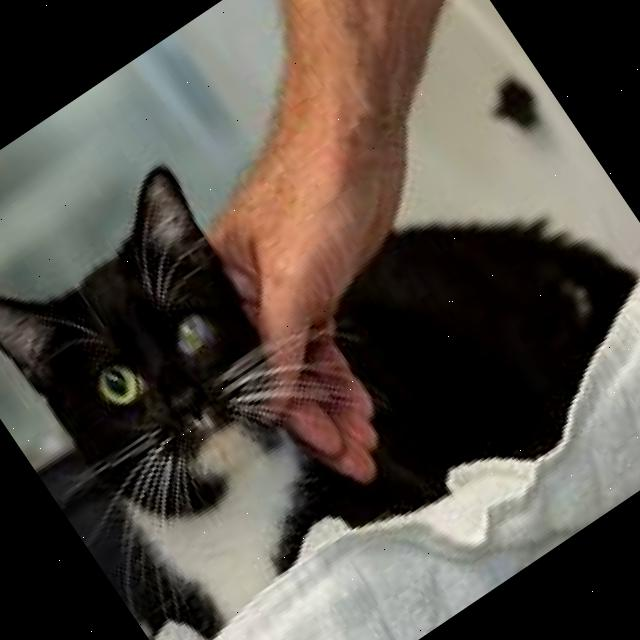cat-eye: (155, 300, 227, 372)
cat-eye-normal: (82, 350, 157, 424)
